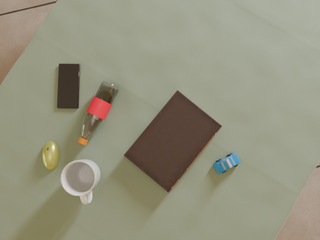book: (124, 90, 222, 192)
bottle: (78, 81, 119, 145)
cup: (61, 159, 100, 204)
mouse: (42, 141, 59, 170)
phone: (57, 64, 80, 108)
toy_car: (213, 153, 240, 173)
